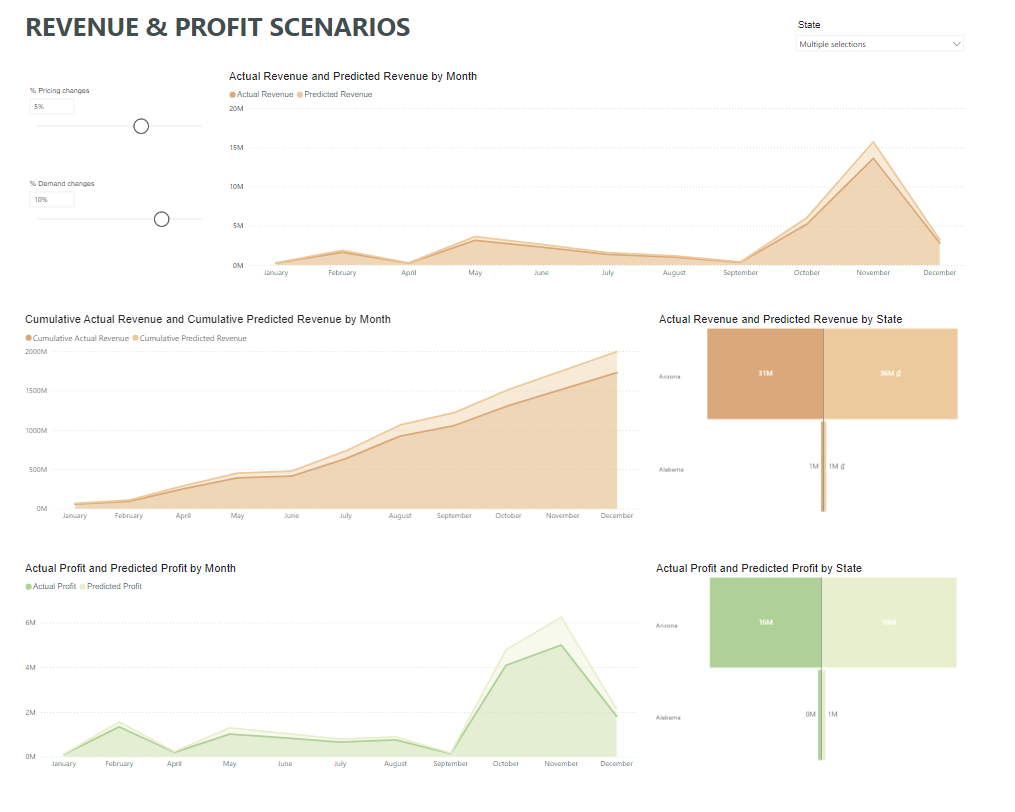

This screenshot's page, from the dashboard's own definition file:
{"tool":"powerbi","page":{"name":"Page 1","canvas":[1580,1320],"ordinal":0},"visuals":[{"type":"textbox","box":[0,0,1578.4,67.9],"z":0},{"type":"areaChart","fields":{"Y":["Order_2017.Actual Revenue","Order_2017.Predicted Revenue"],"Category":["Order_2017.Order Date.Variation.Date Hierarchy.Month"]},"box":[340.8,108.2,1238.8,355.1],"z":1000},{"type":"slicer","fields":{"Values":["% Pricing changes.% Pricing changes"]},"box":[0,130.6,322.4,138.8],"z":2000},{"type":"slicer","fields":{"Values":["% Demand changes.% Demand changes"]},"box":[0,285.7,322.4,138.8],"z":3000},{"type":"areaChart","fields":{"Category":["Order_2017.Order Date.Variation.Date Hierarchy.Month"],"Y":["Key Measure.Actual Profit","Key Measure.Predicted Profit"]},"box":[0,927.6,1032.7,354.6],"z":4000},{"type":"TornadoChart1452517688218","fields":{"Category":["Order_2017.State"],"Values":["Key Measure.Actual Profit","Key Measure.Predicted Profit"]},"box":[1052.4,927.6,525.4,354.6],"z":5000},{"type":"TornadoChart1452517688218","fields":{"Category":["Order_2017.State"],"Values":["Key Measure.Actual Revenue","Key Measure.Predicted Revenue"]},"box":[1057.3,513.9,522.1,356.3],"z":6000},{"type":"areaChart","fields":{"Category":["Order_2017.Order Date.Variation.Date Hierarchy.Month"],"Y":["Key Measure.Cumulative Actual Revenue","Key Measure.Cumulative Predicted Revenue"]},"box":[0,513.9,1032.7,356.3],"z":7000},{"type":"slicer","fields":{"Values":["Order_2017.State"]},"box":[1280,20.6,300.4,94.7],"z":8000}]}

Visuals, with their boxes on the page's 1580x1320 design canvas (x1, y1, x2, y2). These are canvas units, not pixel positions in the 1015x812 screenshot, which may show the page scaled, cropped or inside an application window:
textbox: crop(0, 0, 1578, 68)
areaChart - Order_2017.Actual Revenue x Order_2017.Predicted Revenue: crop(341, 108, 1580, 463)
slicer - % Pricing changes.% Pricing changes: crop(0, 131, 322, 269)
slicer - % Demand changes.% Demand changes: crop(0, 286, 322, 424)
areaChart - Order_2017.Order Date.Variation.Date Hierarchy.Month x Key Measure.Actual Profit: crop(0, 928, 1033, 1282)
TornadoChart1452517688218 - Order_2017.State x Key Measure.Actual Profit: crop(1052, 928, 1578, 1282)
TornadoChart1452517688218 - Order_2017.State x Key Measure.Actual Revenue: crop(1057, 514, 1579, 870)
areaChart - Order_2017.Order Date.Variation.Date Hierarchy.Month x Key Measure.Cumulative Actual Revenue: crop(0, 514, 1033, 870)
slicer - Order_2017.State: crop(1280, 21, 1580, 115)
